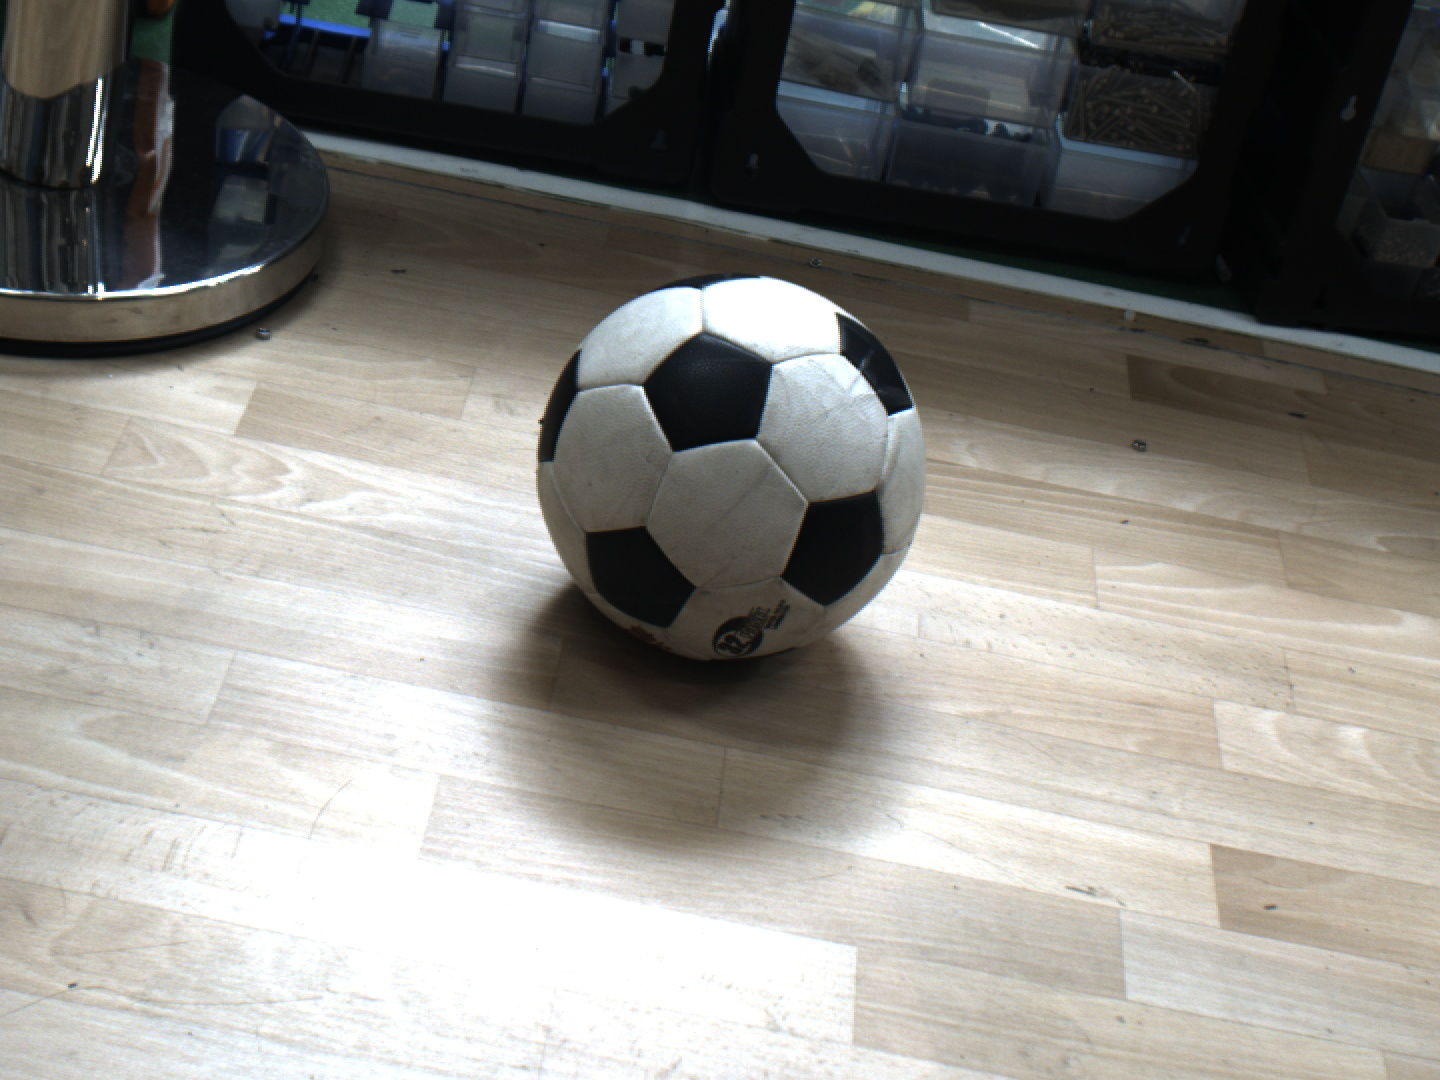ball: (535, 270, 929, 668)
